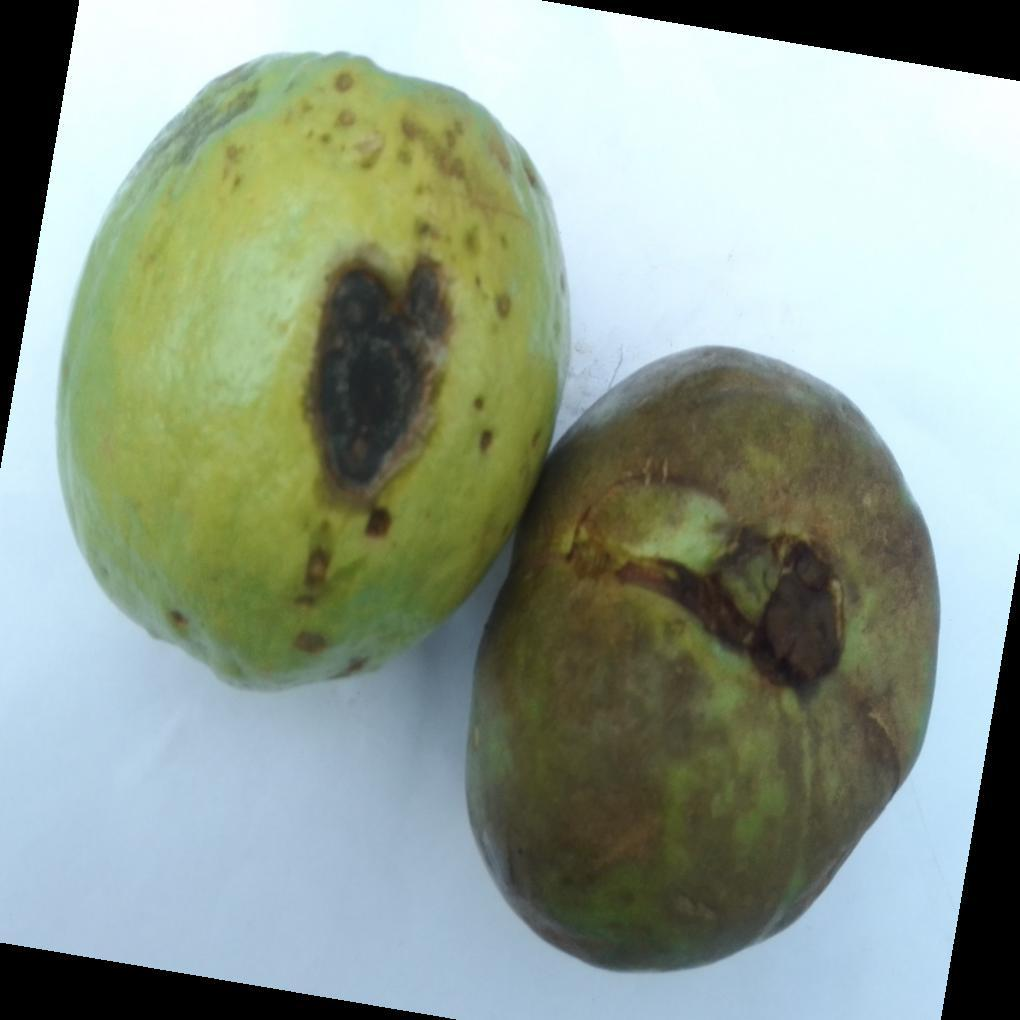FreshOrange: (55, 53, 942, 977)
